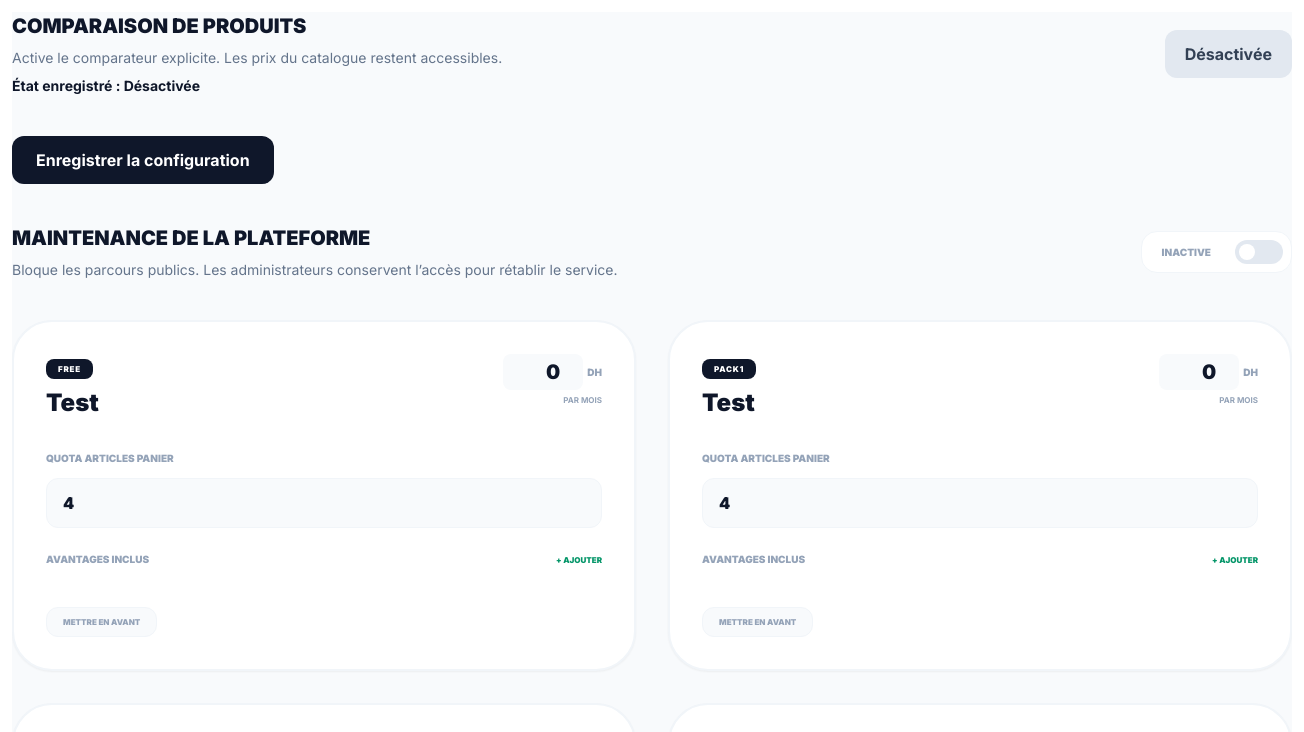
it: Comparison controls › sends an explicit boolean only on save and acknowledges success
This screenshot has width=1304, height=732.
What coordinates should you click on to do the following:
click the switch
I would click on:
 (1228, 54)
Its box is [1165, 30, 1292, 78].
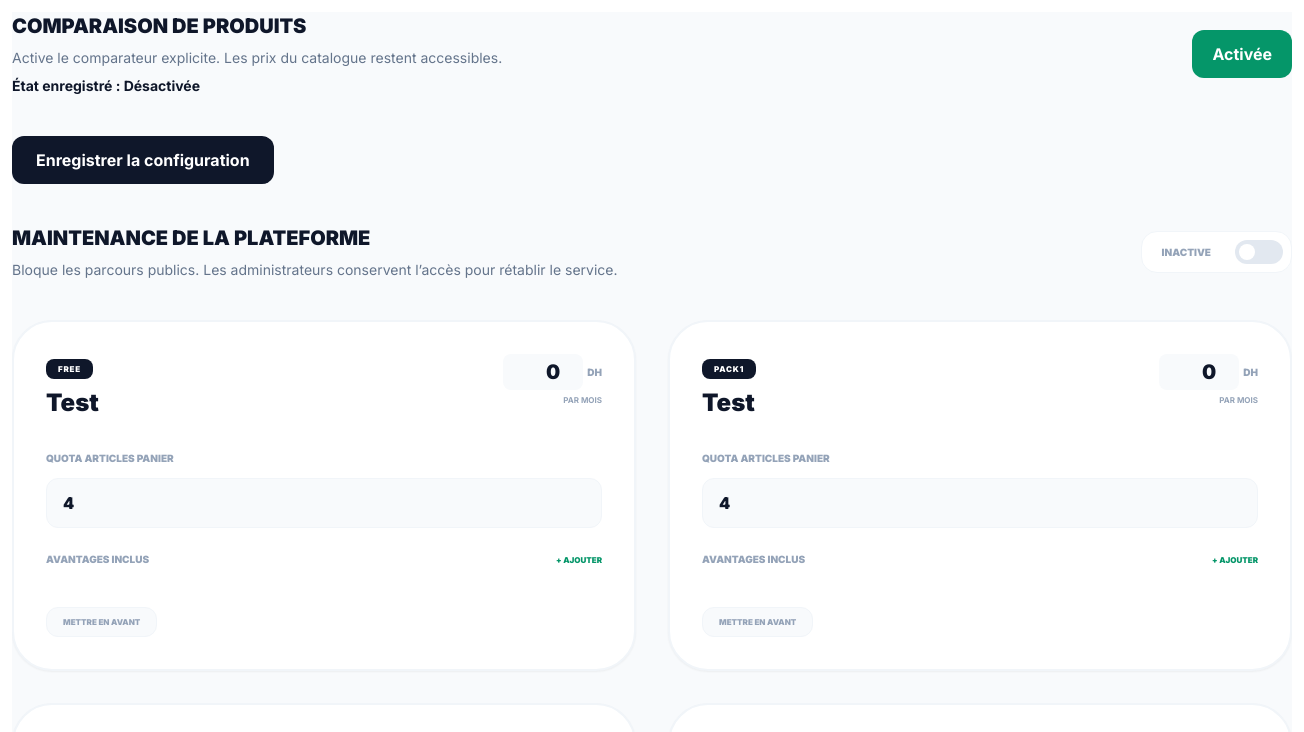
What coordinates should you click on to do the following:
click the button "Enregistrer la configuration"
I would click on:
 (143, 160)
Its box is [12, 136, 274, 184].
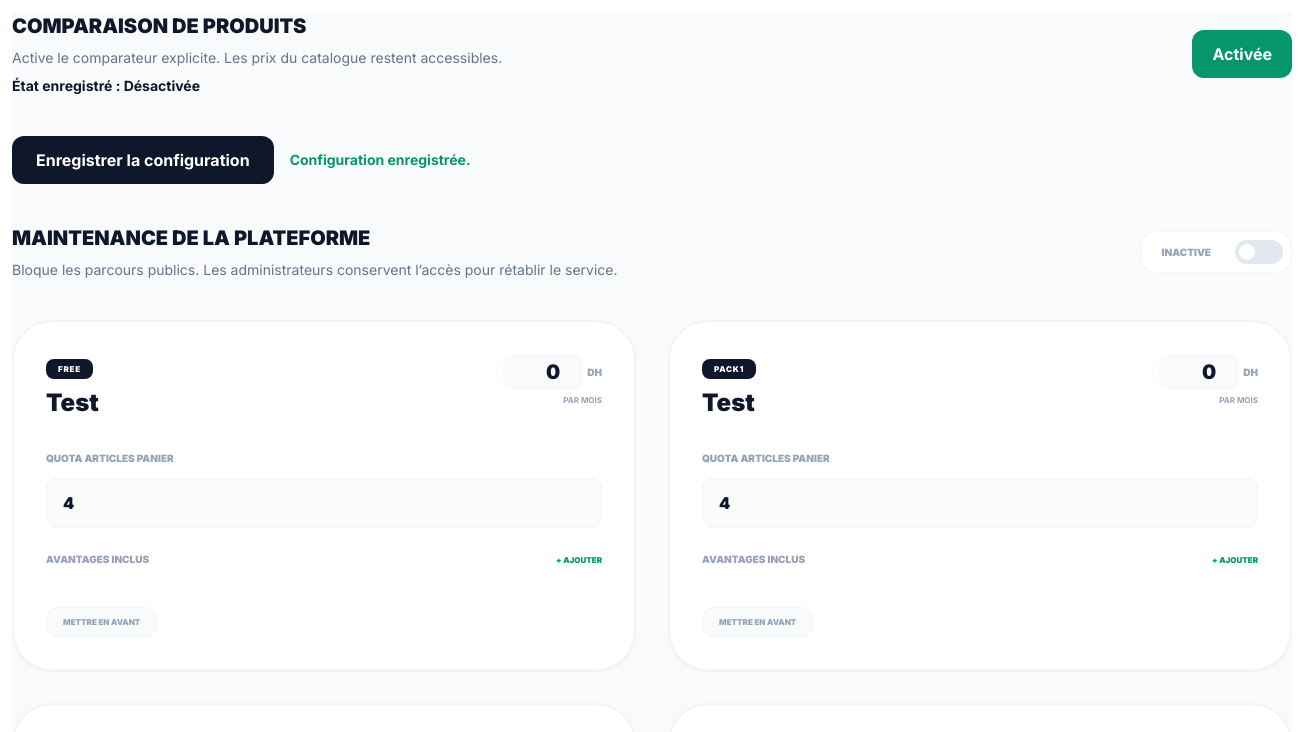
Check: the message reads "Configuration enregistrée.", box [290, 151, 471, 168]
